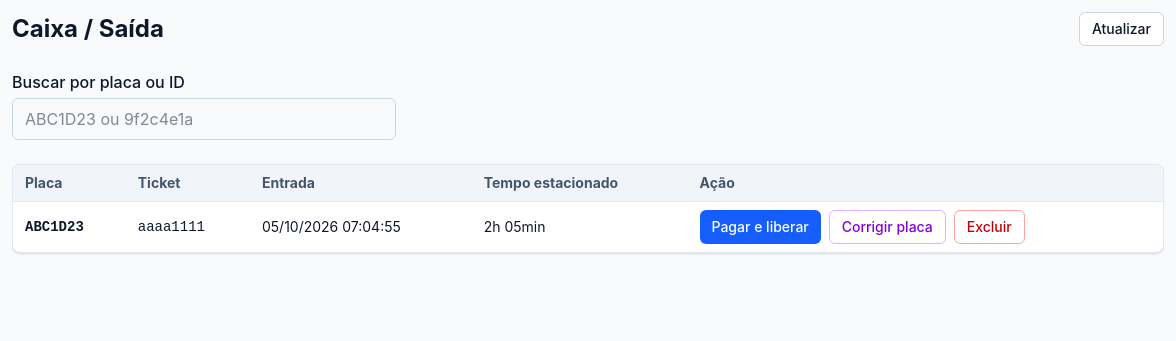
it: PaymentPage › erro 409 exibe que a sessão não está pronta para pagamento
This screenshot has width=1176, height=341.
Expected: the table is shown, x1=13 y1=165 x2=1163 y2=252
Click the button "Pagar e liberar".
click(760, 227)  # box x1=700 y1=210 x2=821 y2=244
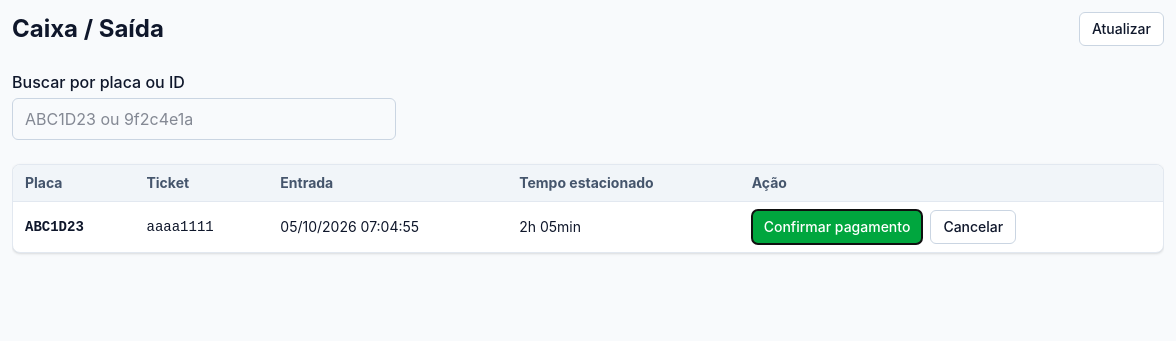
Click the button "Confirmar pagamento".
click(837, 227)  # box x1=752 y1=210 x2=922 y2=244
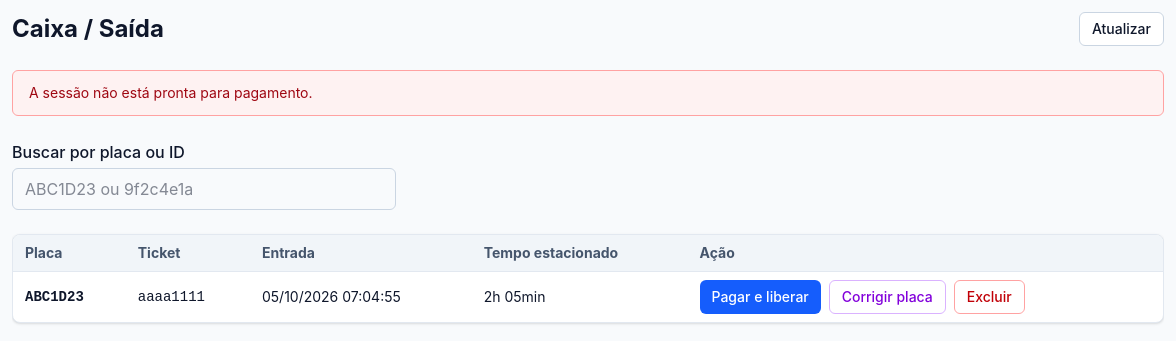
Expected: the message reads "A sessão não está pronta para pagamento.", x1=29 y1=84 x2=312 y2=101
